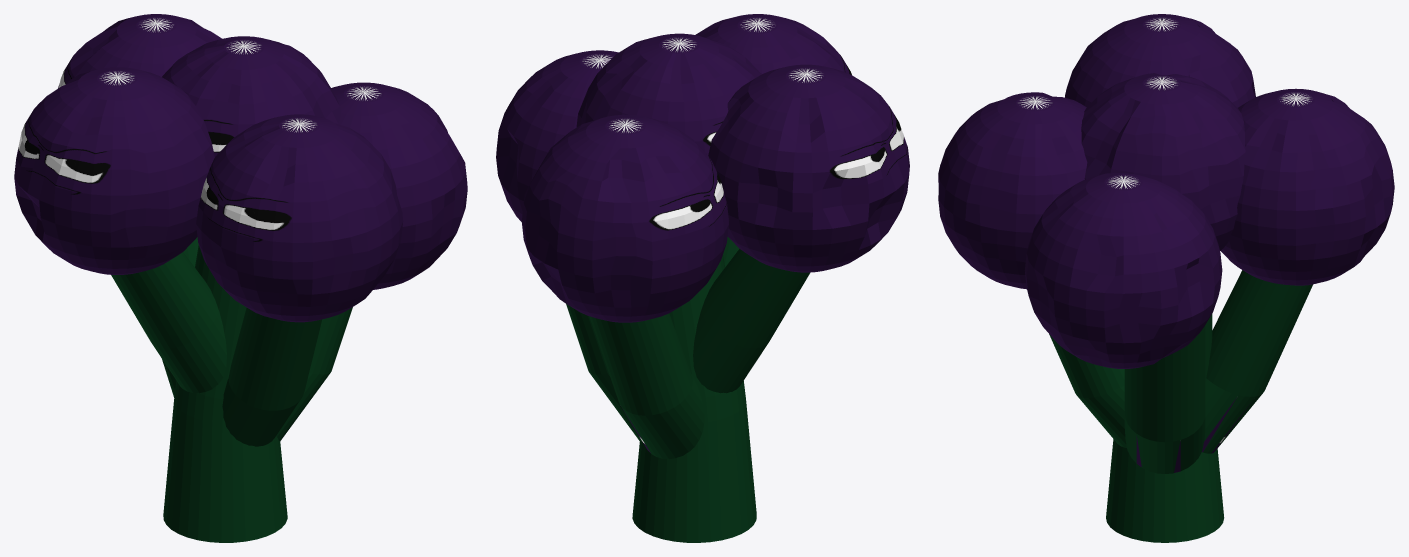
Rendered from brokkoli final neu.fbx.
3 views of the same model, side by side, from view 1: azimuth 30°, elevation 25°; view 2: azimuth 150°, elevation 25°; view 3: azimuth 270°, elevation 25° (orthographic). The views are drawn at different scales.
Parts seen in each view (by area): view 1: broccoli_baked; view 2: broccoli_baked; view 3: broccoli_baked.
Boxes of the visible parts, <box> form: broccoli_baked: <box>14,14,467,542</box>; broccoli_baked: <box>496,14,909,542</box>; broccoli_baked: <box>938,14,1394,542</box>.
Bounding box in the file's own units: 750 × 828 × 772.
